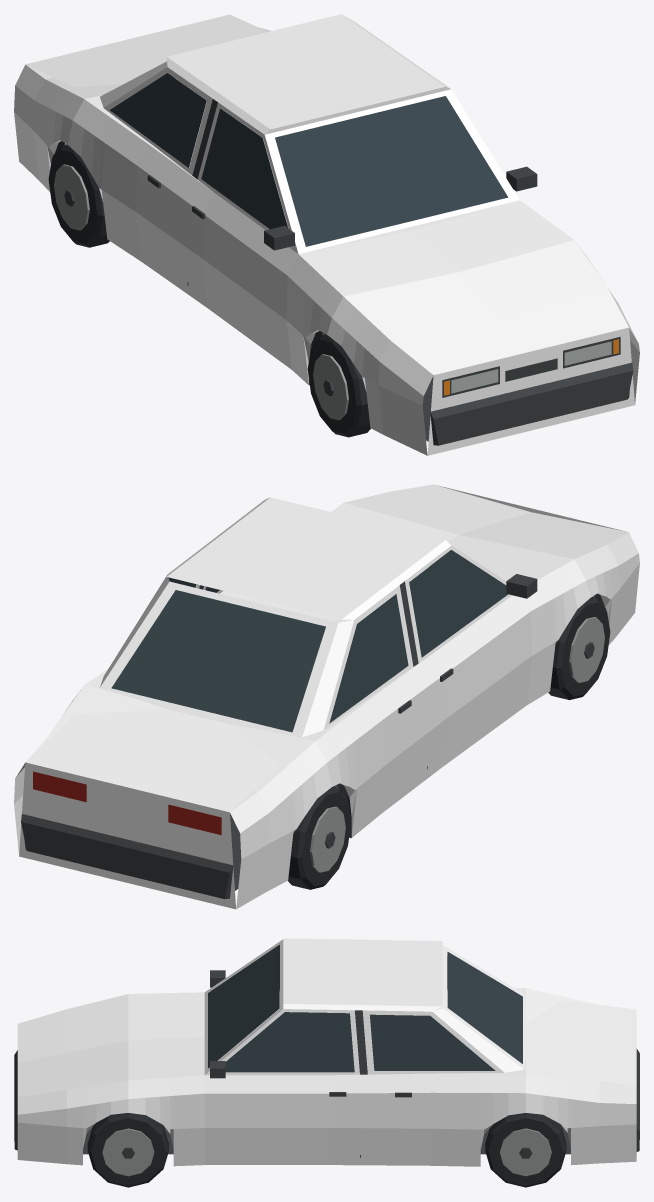
Rendered from sanga_usagi_gt_iii.glb.
The picture shows the model from 3 angles, top to bottom: view 1: azimuth 30°, elevation 25°; view 2: azimuth 150°, elevation 25°; view 3: azimuth 270°, elevation 25°; orthographic projection. The views are drawn at different scales.
Visible parts, largest first — view 1: sanga_usagi_gt_iii; view 2: sanga_usagi_gt_iii; view 3: sanga_usagi_gt_iii.
Boxes of the visible parts, box(x1,y1,x2,y2) form: sanga_usagi_gt_iii: box(14, 14, 639, 455); sanga_usagi_gt_iii: box(14, 484, 639, 909); sanga_usagi_gt_iii: box(14, 938, 639, 1187).
Bounding box in the file's own units: 1.78 × 1.43 × 4.77.
8 materials, 1 textured.
